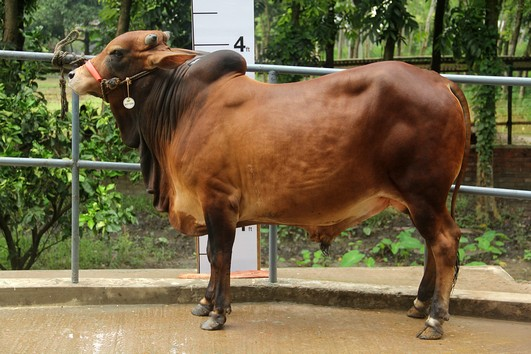cow: (61, 21, 477, 344)
